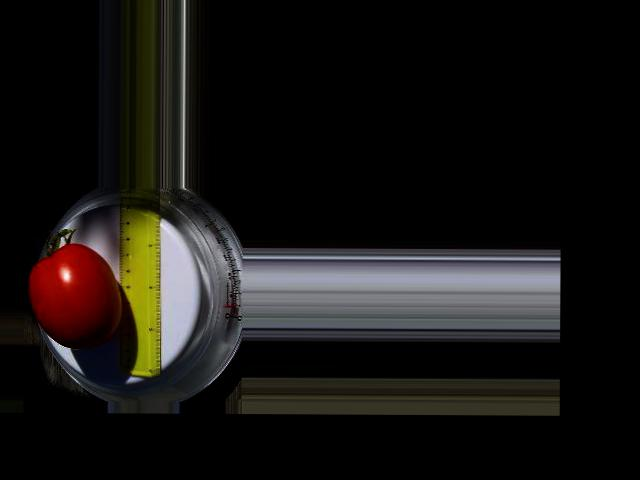tomato: (27, 242, 124, 348)
